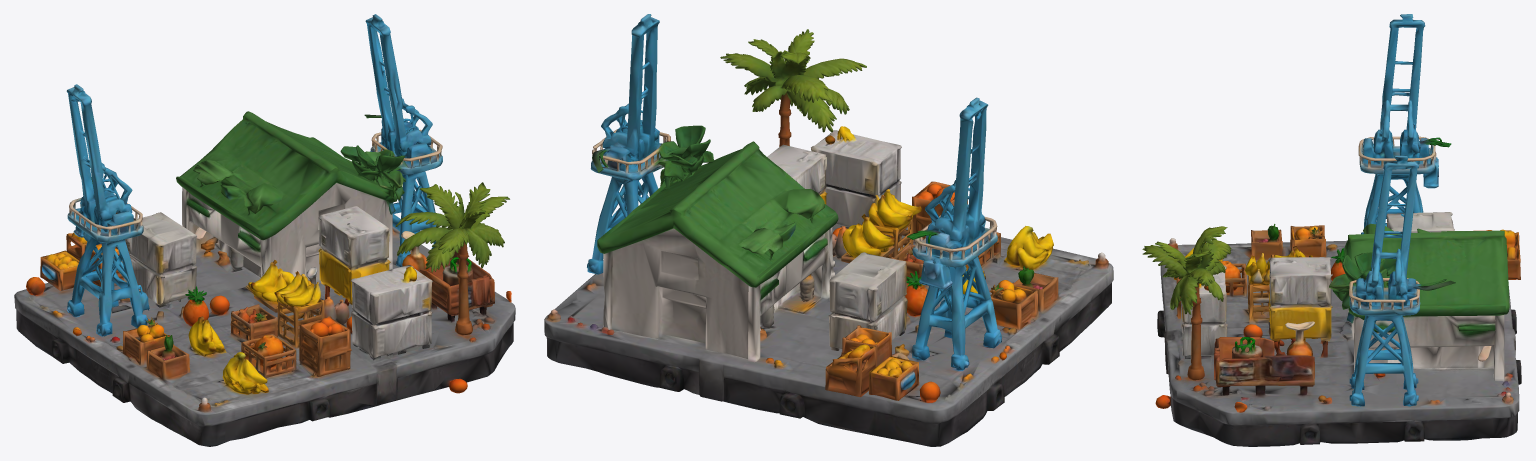
Rendered from port_fruit.glb.
3 renders of one model, left to right at view 1: azimuth 30°, elevation 25°; view 2: azimuth 150°, elevation 25°; view 3: azimuth 270°, elevation 25°, orthographic. The views are drawn at different scales.
Parts seen in each view (by area): view 1: tripo_node_bd8d5c7a-9be9-4a8c-8755-b231fbe4bbaf; view 2: tripo_node_bd8d5c7a-9be9-4a8c-8755-b231fbe4bbaf; view 3: tripo_node_bd8d5c7a-9be9-4a8c-8755-b231fbe4bbaf.
Boxes of the visible parts, box(x1,y1,x2,y2) form: tripo_node_bd8d5c7a-9be9-4a8c-8755-b231fbe4bbaf: box(14, 14, 515, 446); tripo_node_bd8d5c7a-9be9-4a8c-8755-b231fbe4bbaf: box(544, 14, 1113, 446); tripo_node_bd8d5c7a-9be9-4a8c-8755-b231fbe4bbaf: box(1142, 14, 1521, 446).
Size of the model in its own units: 0.9795 by 0.6972 by 0.8807.
Materials: 1 (1 with a texture image).
